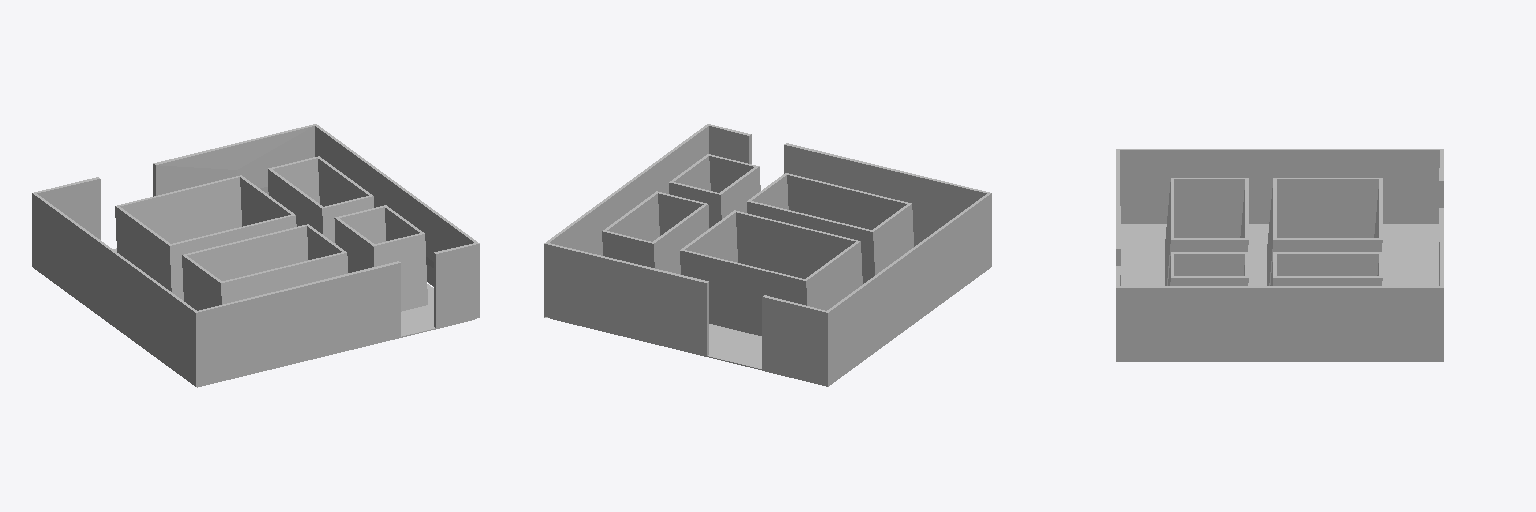
Rendered from laberinto01.obj.
3 views of the same model, side by side, from view 1: azimuth 30°, elevation 25°; view 2: azimuth 150°, elevation 25°; view 3: azimuth 270°, elevation 25° (orthographic).
Visible parts, largest first — view 1: Cube_Cube.001, caja01_Cube.003, caja03_Cube.005, caja04_Cube.006, caja02_Cube.004, piso_Cube.002; view 2: Cube_Cube.001, caja01_Cube.003, caja03_Cube.005, caja02_Cube.004, caja04_Cube.006, piso_Cube.002; view 3: Cube_Cube.001, caja01_Cube.003, piso_Cube.002, caja03_Cube.005, caja02_Cube.004, caja04_Cube.006.
Part boxes in pixels (x1,y1,x2,y2): Cube_Cube.001: (32,124,479,386); caja01_Cube.003: (115,175,296,300); caja03_Cube.005: (182,224,347,310); caja04_Cube.006: (334,205,427,311); caja02_Cube.004: (268,156,373,243); piso_Cube.002: (69,248,474,387); Cube_Cube.001: (544,124,991,386); caja01_Cube.003: (680,210,862,335); caja03_Cube.005: (747,173,913,283); caja02_Cube.004: (602,191,709,274); caja04_Cube.006: (669,154,760,227); piso_Cube.002: (550,294,954,369); Cube_Cube.001: (1116,149,1443,361); caja01_Cube.003: (1267,178,1382,285); piso_Cube.002: (1121,224,1438,285); caja03_Cube.005: (1165,178,1248,285); caja02_Cube.004: (1270,252,1382,285); caja04_Cube.006: (1168,252,1248,285).
Bounding box in the file's own units: 8.03 × 2.04 × 8.02.